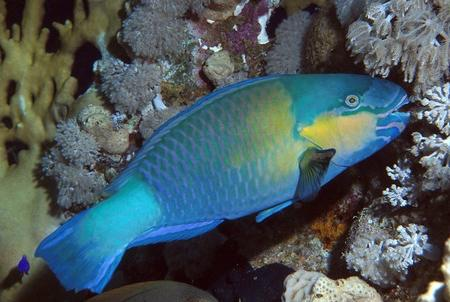Scaridae -Parrotfishes-: (29, 50, 408, 298)
